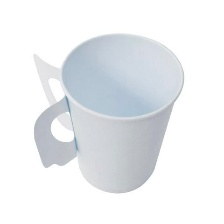paper_cup: (28, 27, 188, 198)
